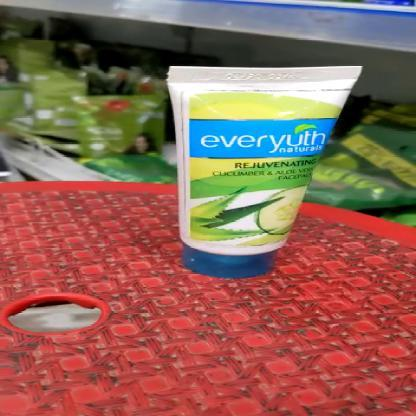EY RJ CUCUMBER ALOEVERA FACEPAK50G: (171, 68, 364, 278)
